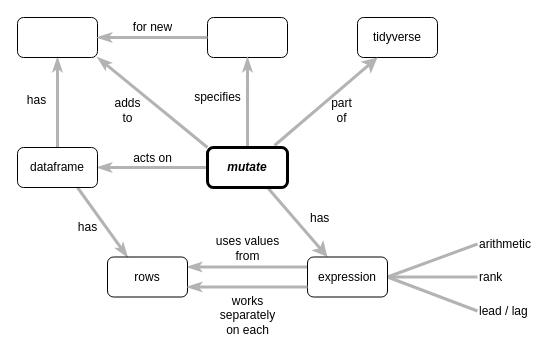
Image size: 555x354. Some labels were removed from this diagram. Each missing label, with the centre of its shape:
columns: (x=57, y=37)
names: (x=247, y=37)
